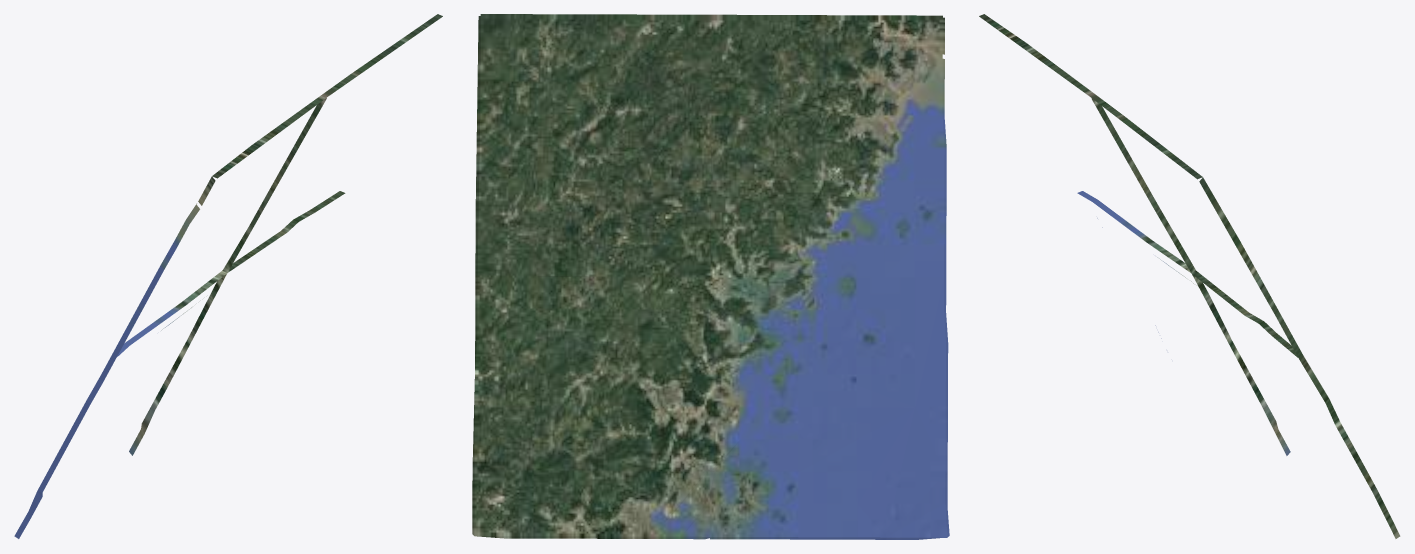
3 views of the same model, side by side, from view 1: azimuth 30°, elevation 25°; view 2: azimuth 150°, elevation 25°; view 3: azimuth 270°, elevation 25° (orthographic). The views are drawn at different scales.
Size of the model in its own units: 317498 by 283076 by 264426.
Materials: 1 (1 with a texture image).
